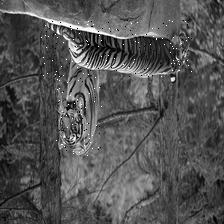tiger: (41, 20, 192, 77), (57, 66, 103, 156)
